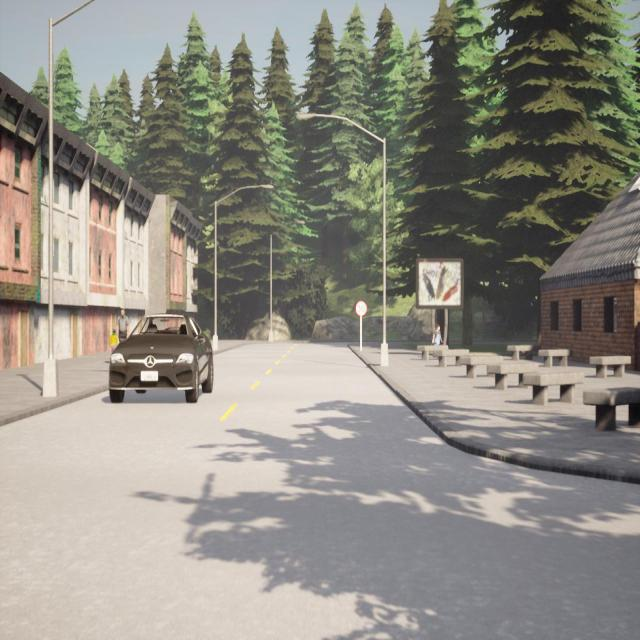Pedestrian: (117, 307, 130, 346), (431, 324, 444, 345), (108, 328, 118, 351)
Traffic_Signs: (354, 300, 368, 318)
Vehicle: (109, 311, 213, 402)
